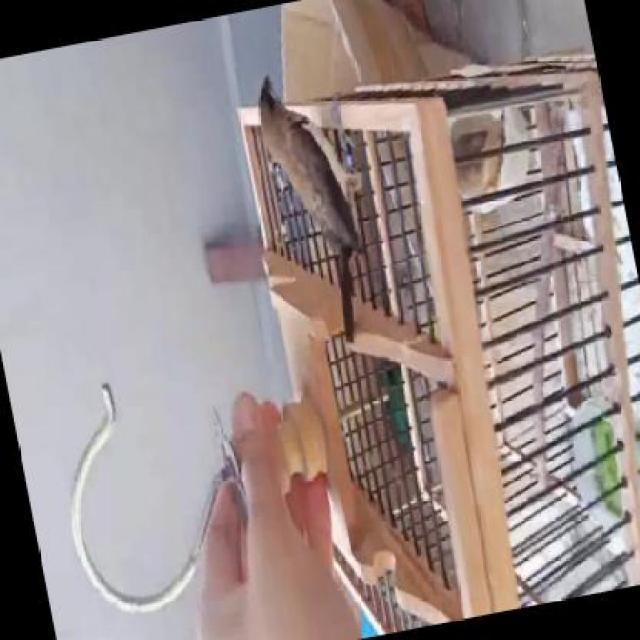Bird: (230, 59, 404, 364)
